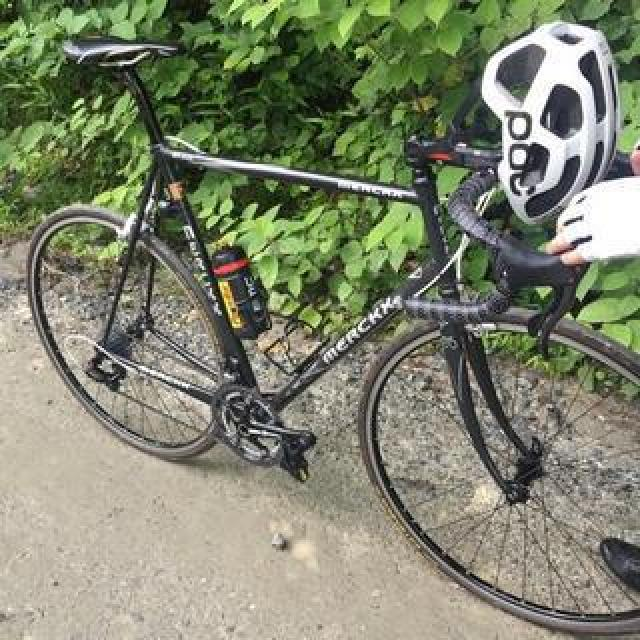Person: (24, 40, 640, 638)
